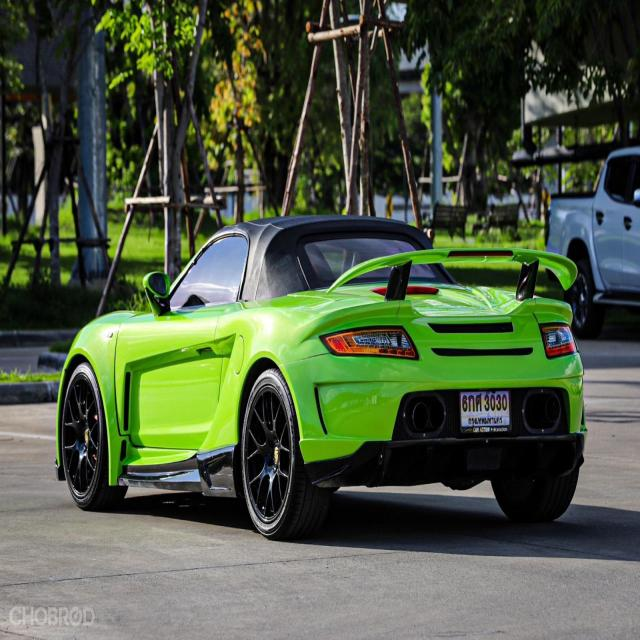license_plate: (458, 387, 512, 437)
